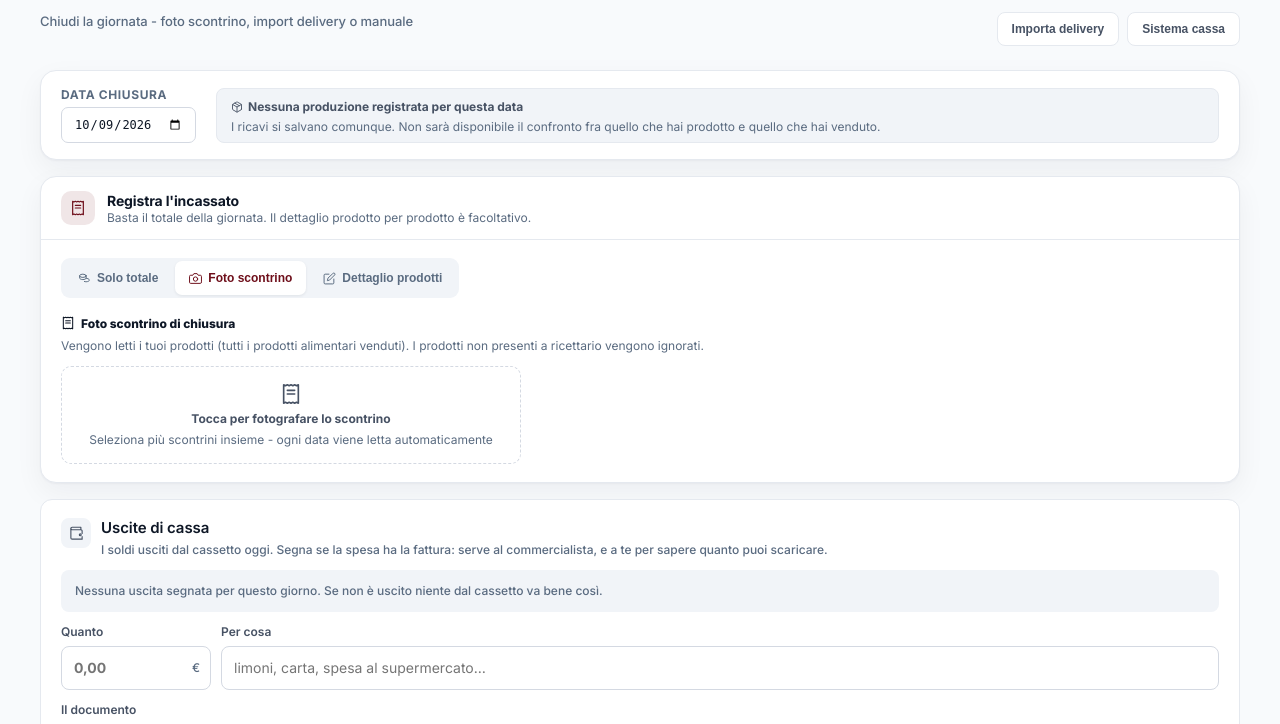
it: chiusura rapida: il solo totale della giornata › lo scontrino medio compare a schermo scritto all'italiana
This screenshot has width=1280, height=724.
Click the button "Solo totale" at [118, 278], box [64,261,172,295]
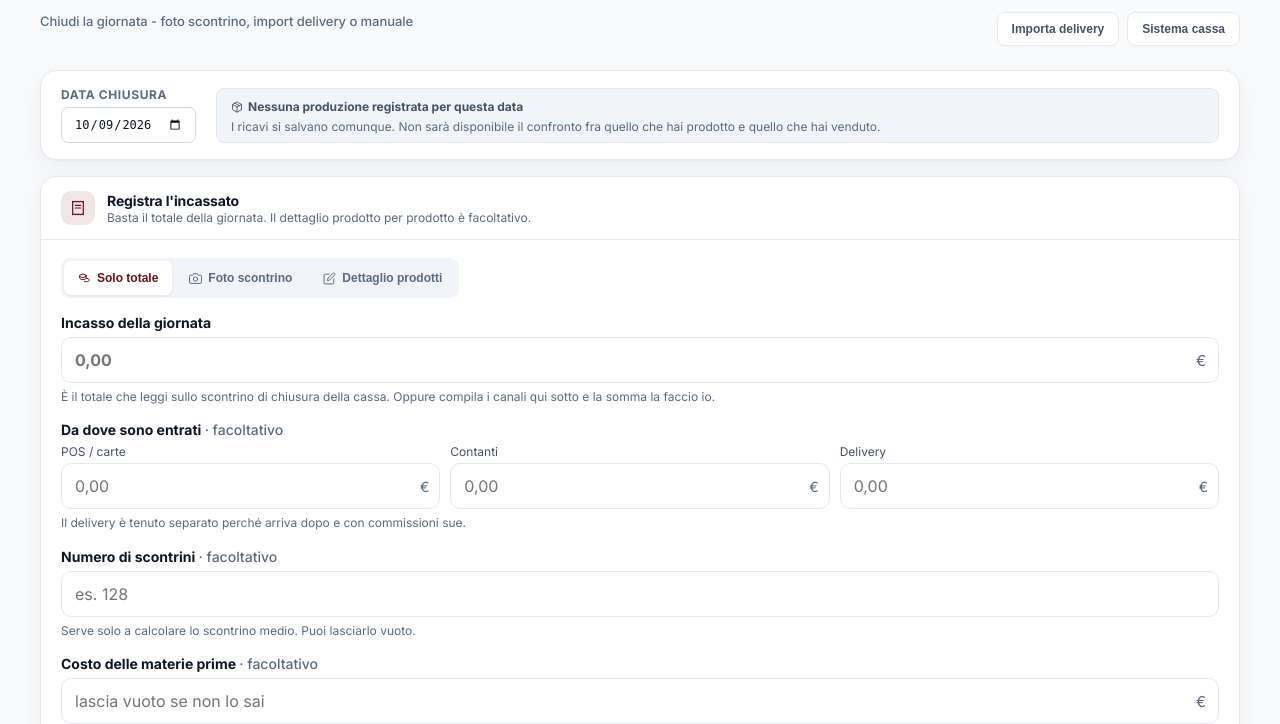
expect the field with id "fos-incasso" is shown: met
Type "1477" into the field with id "fos-incasso" at [640, 360], box [61,337,1219,383]
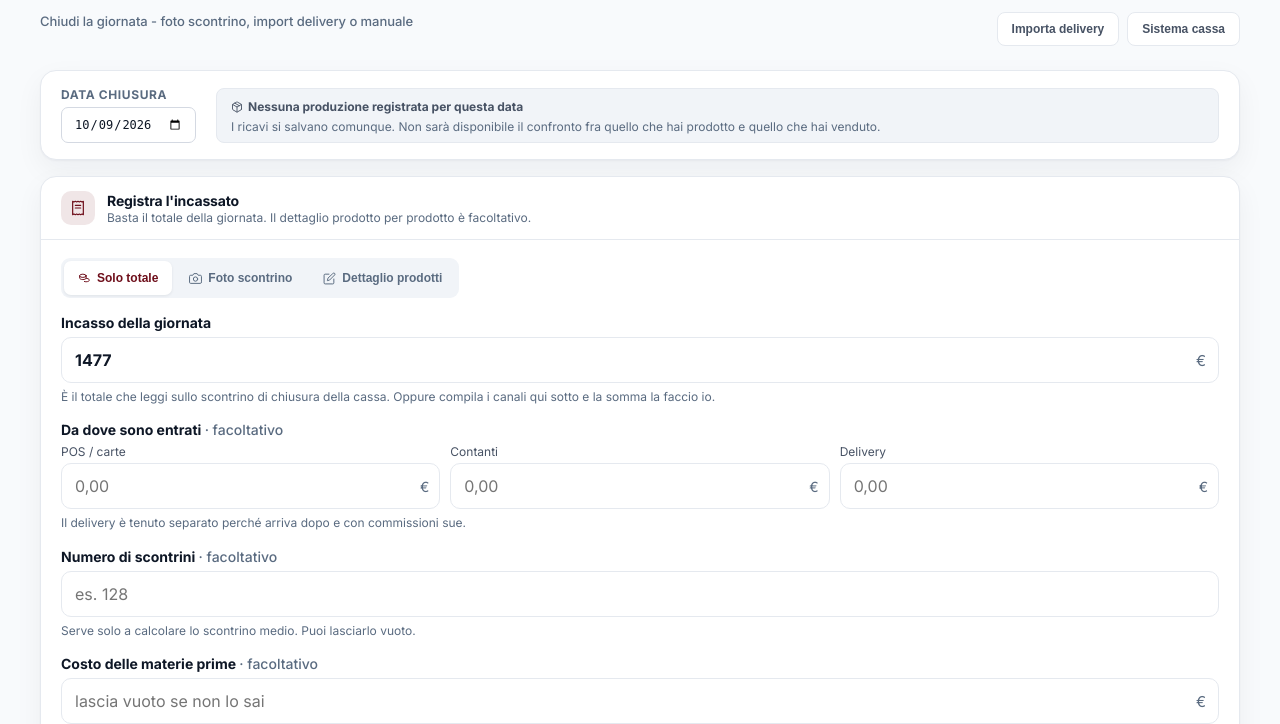
Type "128" into the field labelled "Numero di scontrini · facoltativo" at [640, 594], box [61,571,1219,617]
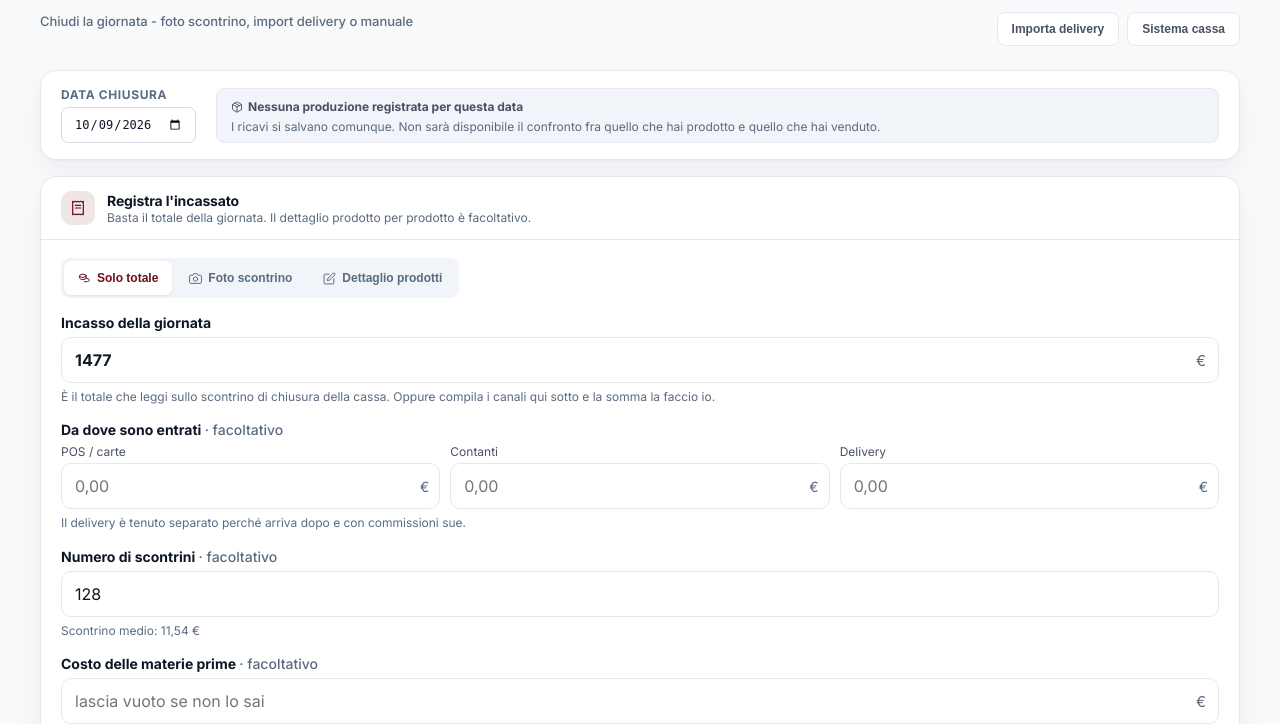
expect the text "Scontrino medio: 11,54 €" is shown: met, box [61,623,200,638]
